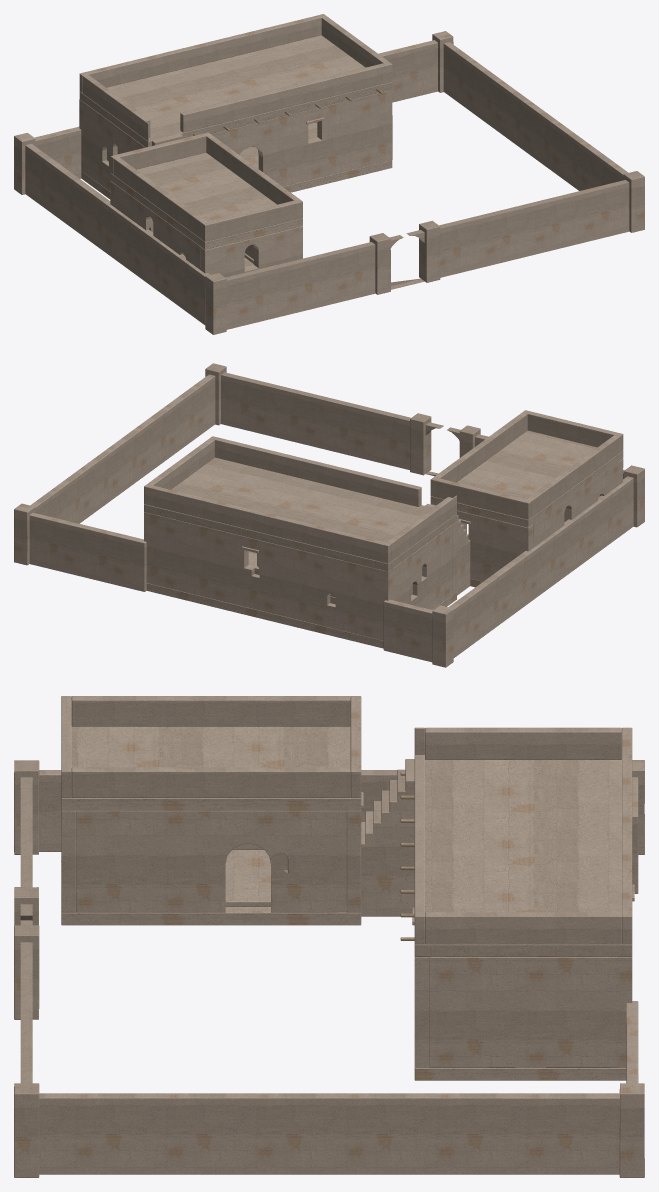
File: court_25.glb
3 renders of one model, top to bottom at view 1: azimuth 30°, elevation 25°; view 2: azimuth 150°, elevation 25°; view 3: azimuth 270°, elevation 25°, orthographic. The views are drawn at different scales.
Visible parts, largest first — view 1: court; view 2: court; view 3: court.
Part boxes in pixels (<box>): court: <box>14,14,644,334</box>; court: <box>14,363,644,667</box>; court: <box>14,696,644,1177</box>.
Bounding box in the file's own units: 22.73 × 5.23 × 18.17.
3 materials, 3 textured.
